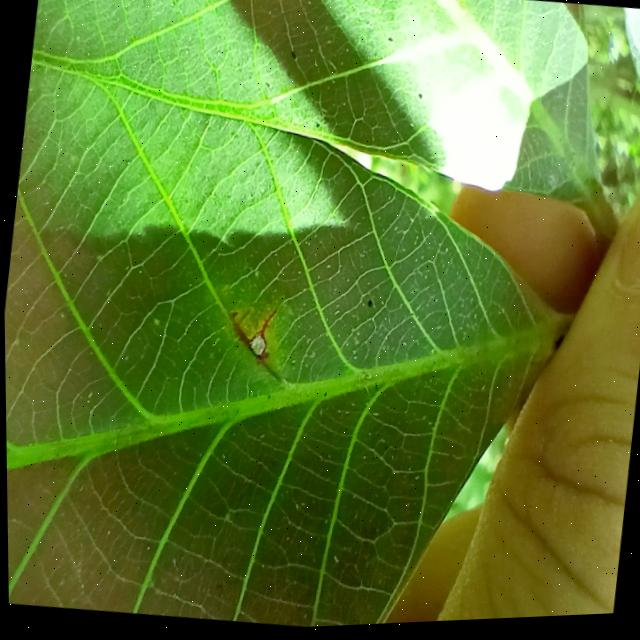Corynespora: (256, 309, 279, 336)
Leaf-Blight: (244, 333, 266, 360)
